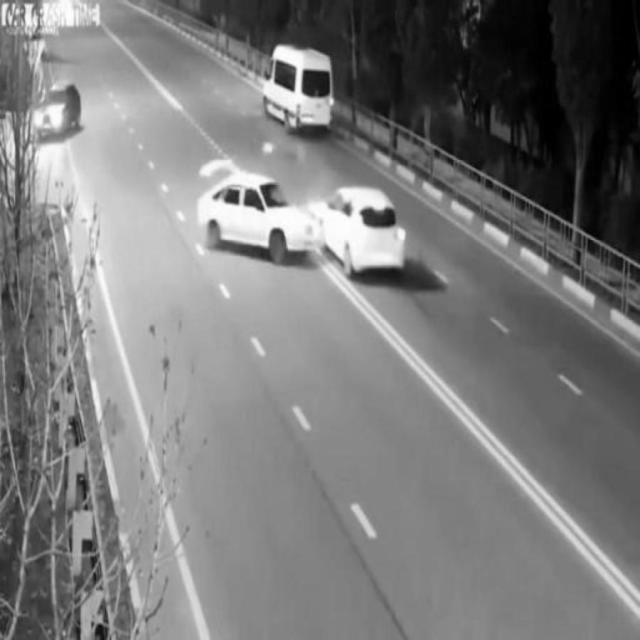accident: (192, 160, 406, 278)
vehicle: (258, 46, 339, 128), (32, 84, 82, 136)
